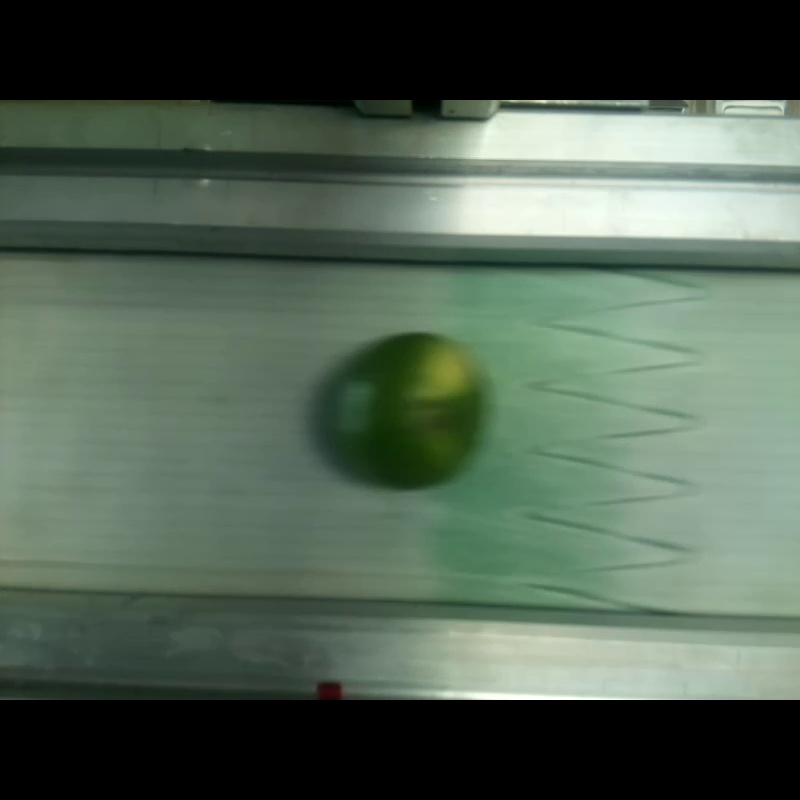lime: (328, 333, 487, 488)
